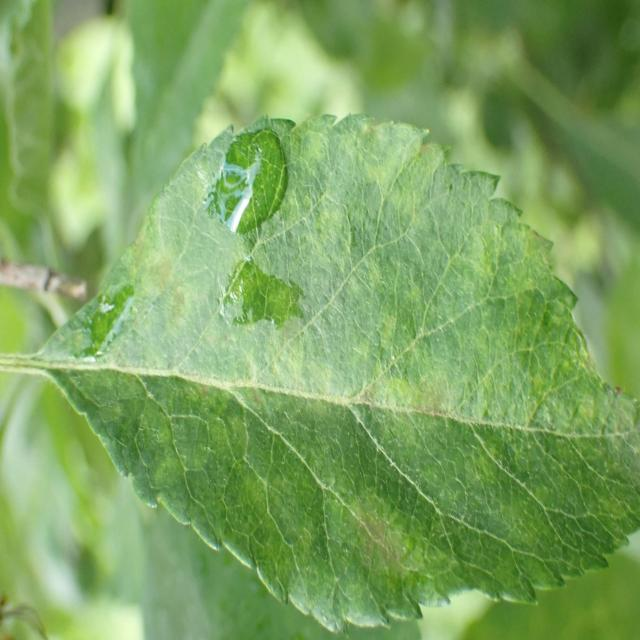scab: (122, 167, 630, 606)
